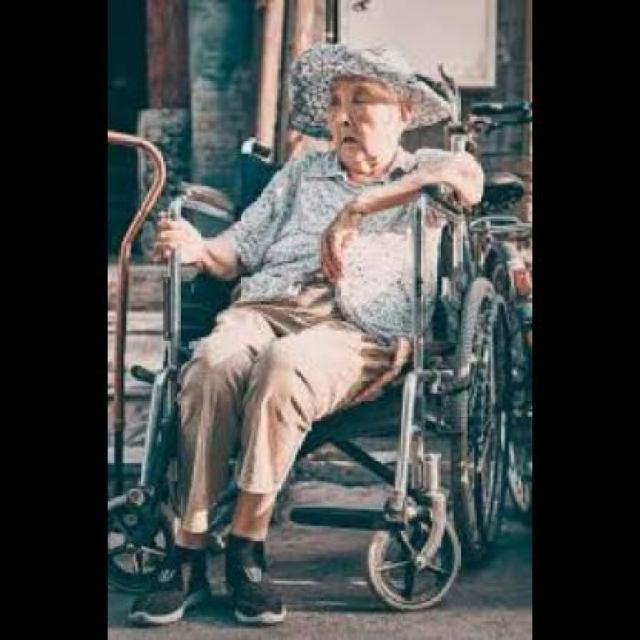wheelchairs: (107, 138, 511, 612)
